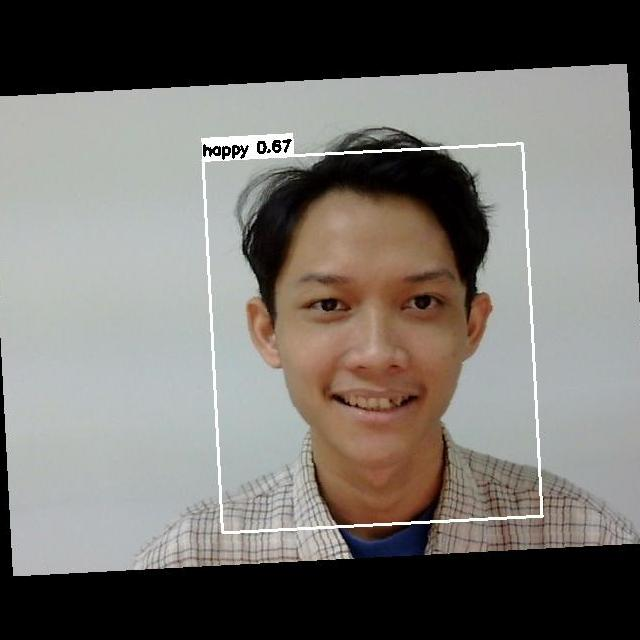Happy: (270, 251, 472, 441)
